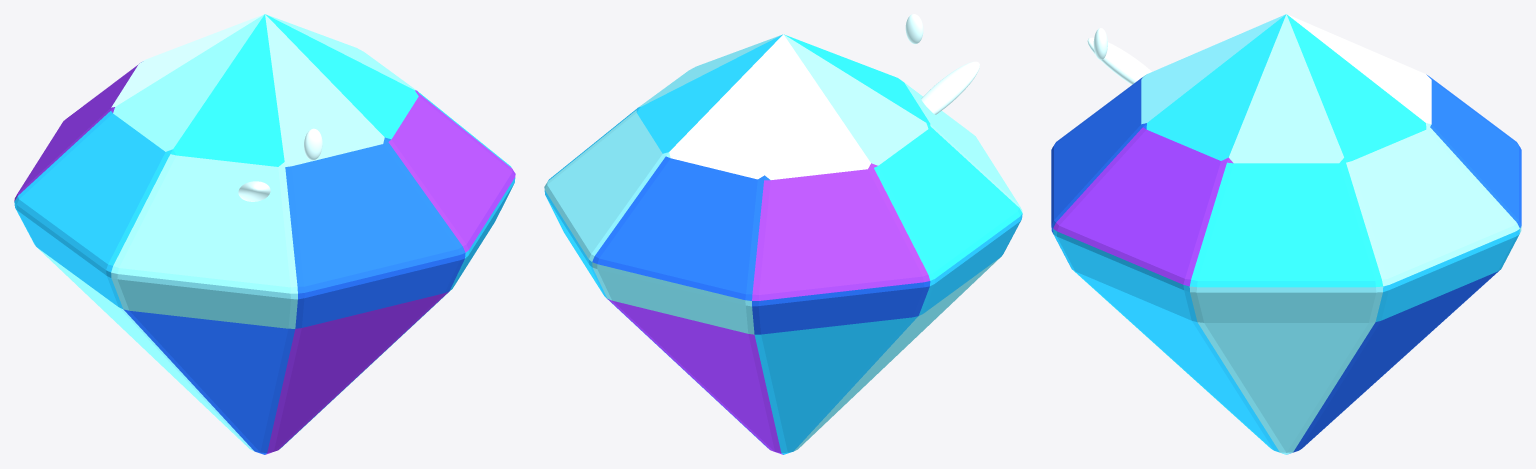
File: DiamondGem.fbx
3 renders of one model, left to right at view 1: azimuth 30°, elevation 25°; view 2: azimuth 150°, elevation 25°; view 3: azimuth 270°, elevation 25°, orthographic. The views are drawn at different scales.
Parts seen in each view (by area): view 1: DiamondGemMesh; view 2: DiamondGemMesh; view 3: DiamondGemMesh.
Boxes of the visible parts, x1=… form: DiamondGemMesh: x1=14, y1=14, x2=515, y2=454; DiamondGemMesh: x1=544, y1=14, x2=1022, y2=454; DiamondGemMesh: x1=1051, y1=14, x2=1521, y2=454.
Size of the model in its own units: 1.65 by 1.7 by 1.65.
